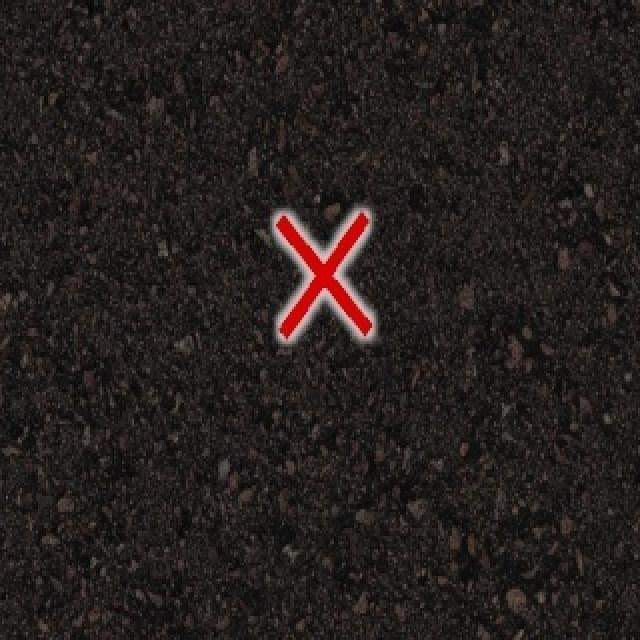x_marker: (275, 212, 371, 337)
